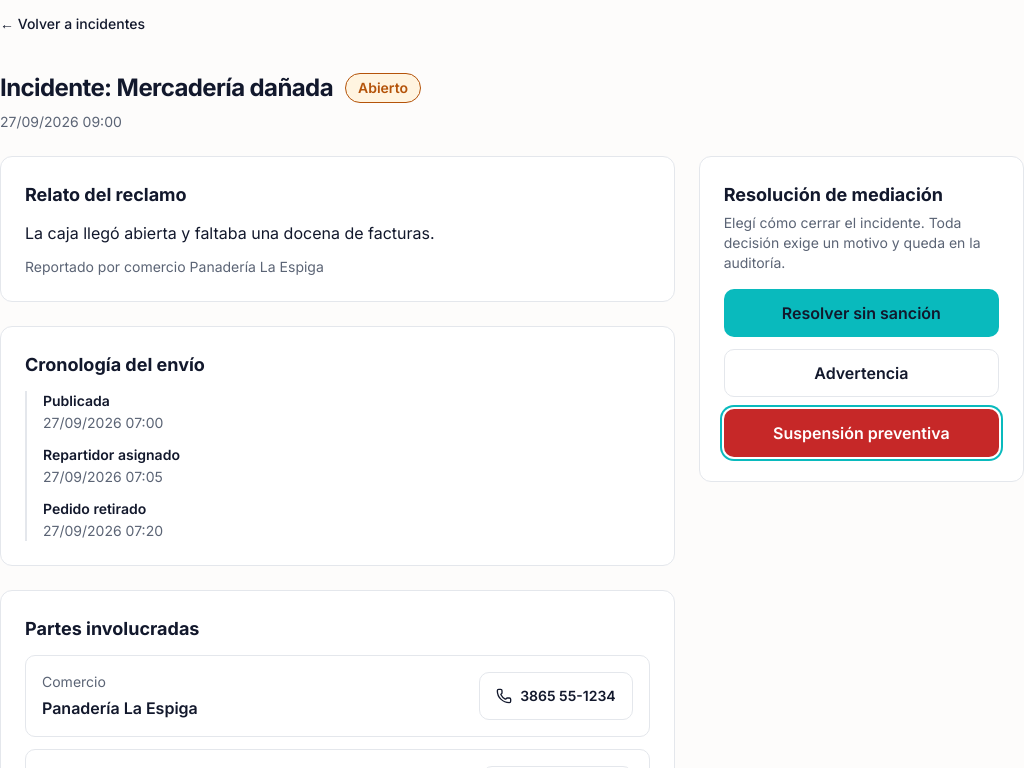
PR113-H07/H08: Dialogs de resolución de A05 › preventive_suspension: el clic solo abre un Dialog titulado y descripto
Click the button "Suspensión preventiva" at (861, 433), box 724,409 -> 999,457
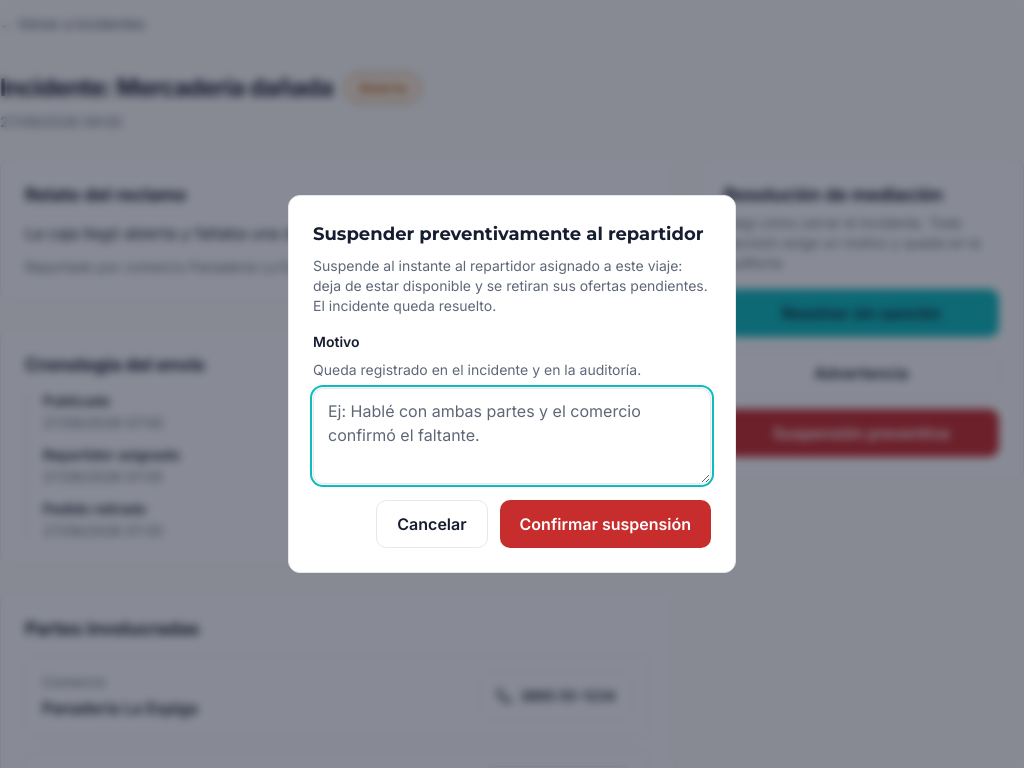
Expected: the text box labelled "Motivo" is shown, 313,388 -> 711,484
Expected: the heading "Suspender preventivamente al repartidor" is shown, 313,220 -> 711,248
